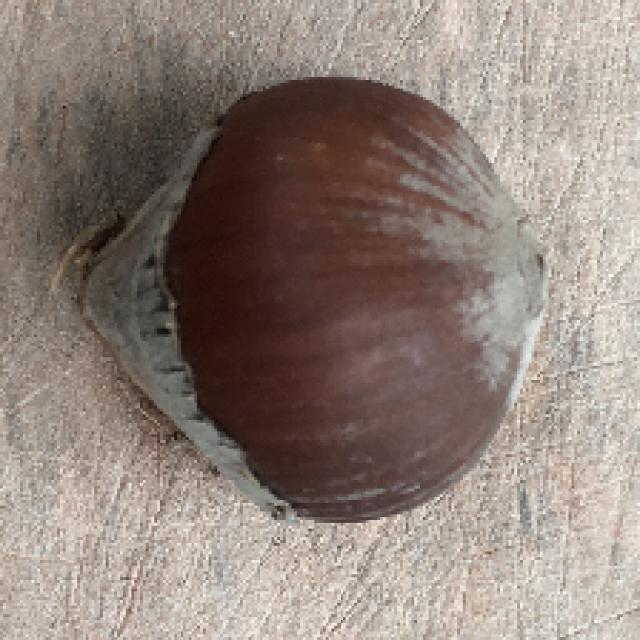damagedHazelnut: (65, 74, 558, 529)
